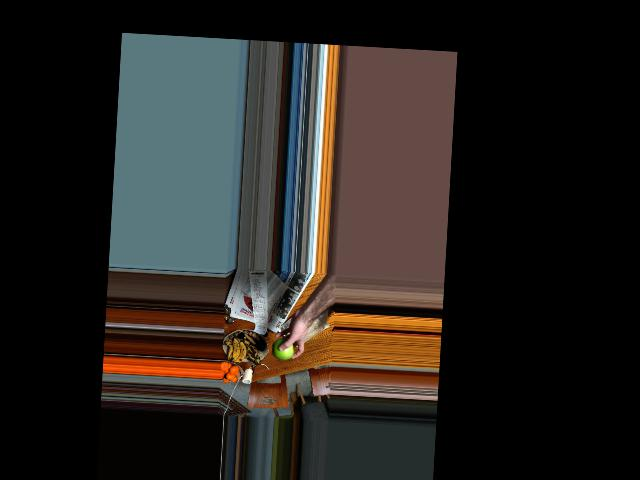apple: (271, 335, 294, 360)
